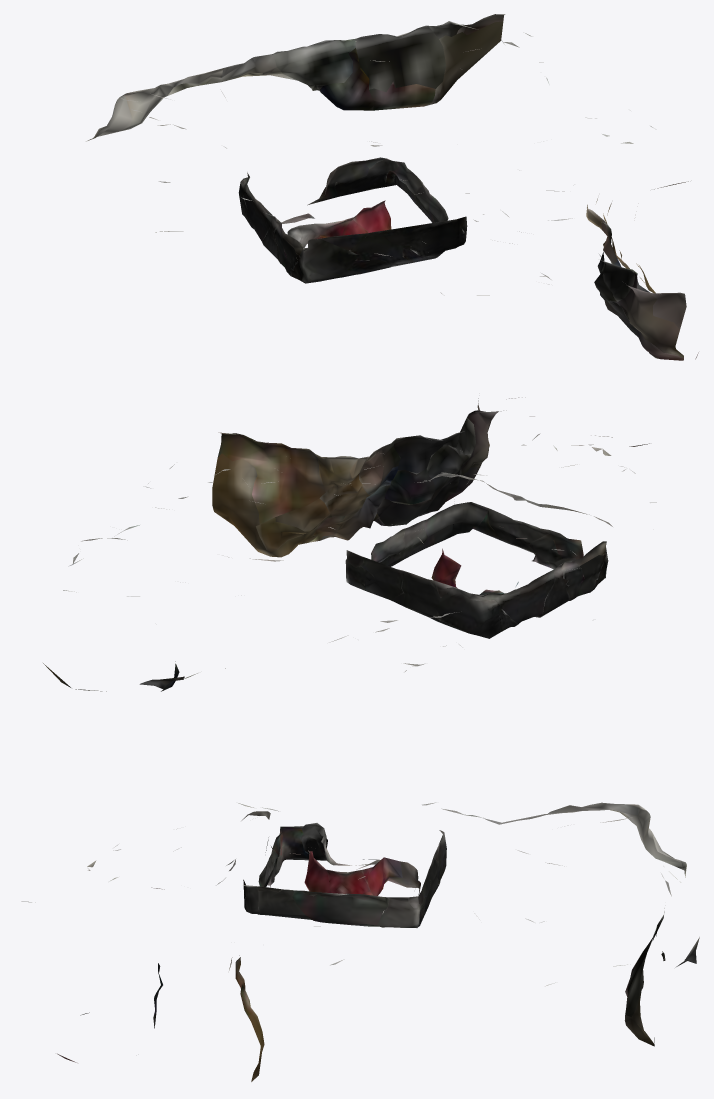
The model's file is hall.glb.
3 renders of one model, top to bottom at view 1: azimuth 30°, elevation 25°; view 2: azimuth 150°, elevation 25°; view 3: azimuth 270°, elevation 25°, orthographic. The views are drawn at different scales.
Bounding box in the file's own units: 2.91 × 0.6819 × 3.6.
1 material, 1 textured.
